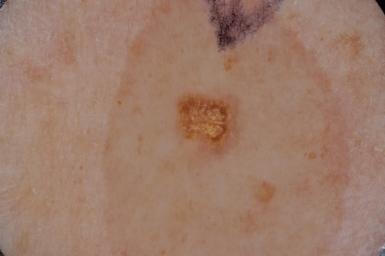seborrheic keratosis: (142, 69, 262, 169)
